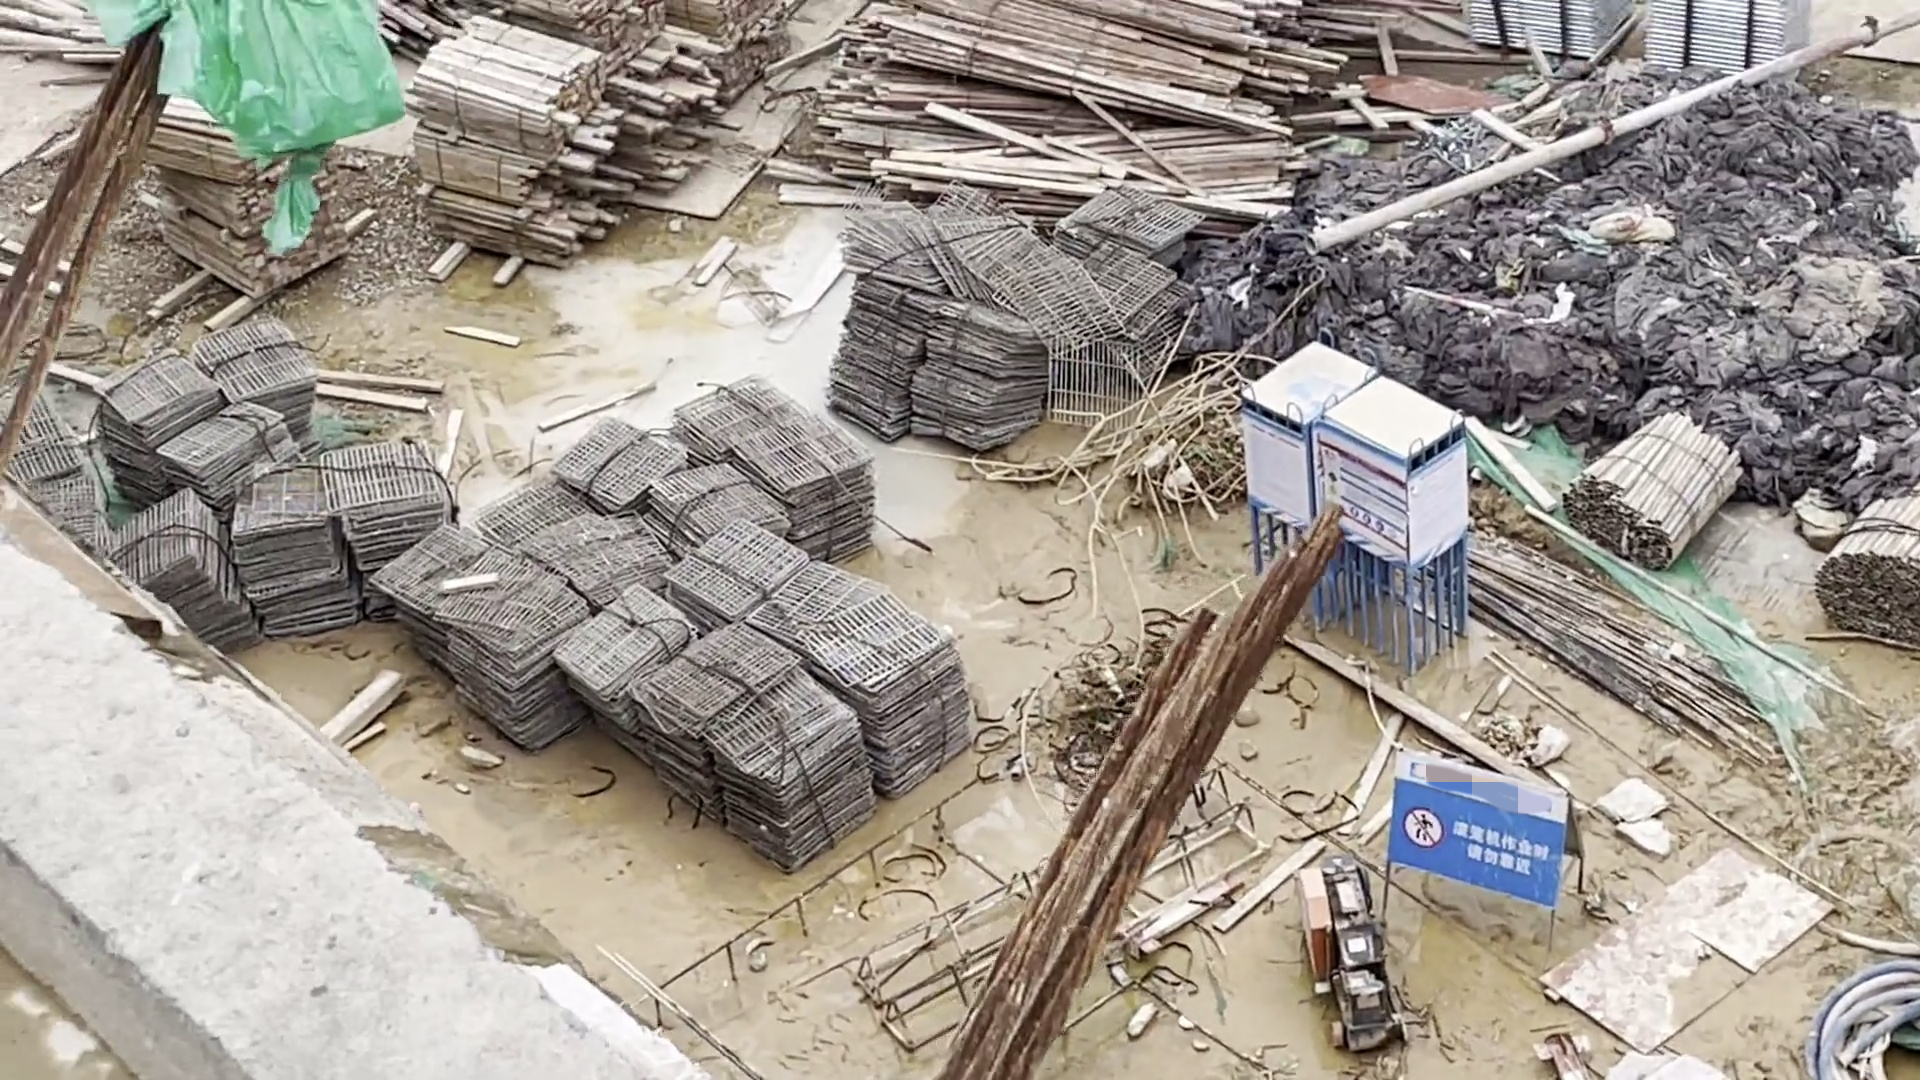scaffold: (1643, 3, 1815, 94), (1466, 1, 1633, 65)
slogan: (1393, 791, 1553, 901)
wood: (822, 5, 1304, 211), (396, 11, 633, 272), (140, 87, 369, 309), (1571, 411, 1745, 572), (596, 5, 723, 200), (1811, 487, 1917, 669)
